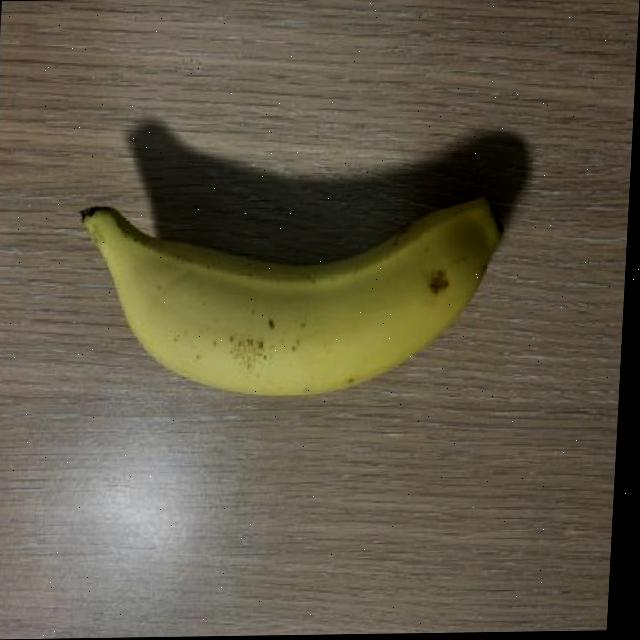banana: (66, 190, 505, 412)
